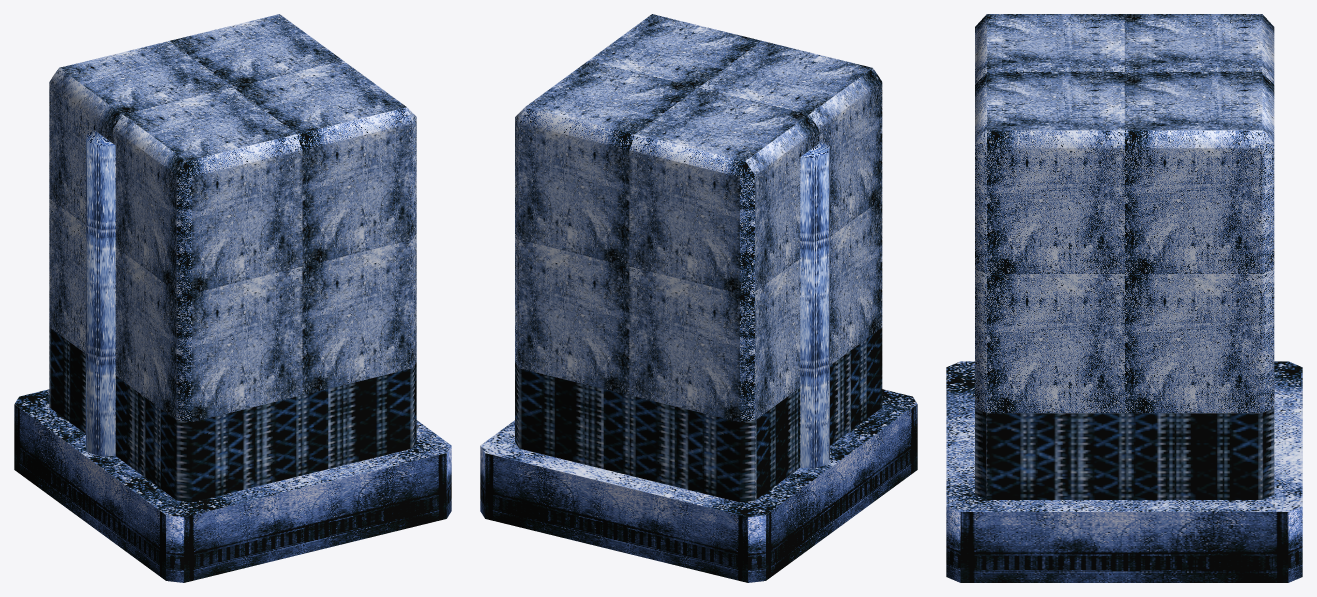
The model's file is Generator.fbx.
The picture shows the model from 3 angles, left to right: view 1: azimuth 30°, elevation 25°; view 2: azimuth 150°, elevation 25°; view 3: azimuth 270°, elevation 25°; orthographic projection. The views are drawn at different scales.
Parts seen in each view (by area): view 1: object_0, object_7, object_8; view 2: object_0, object_7, object_8; view 3: object_0, object_7.
Part boxes in pixels (left/top/right/bottom): object_0: left=49, top=14, right=416, bottom=502; object_7: left=14, top=389, right=451, bottom=582; object_8: left=86, top=130, right=115, bottom=456; object_0: left=515, top=14, right=882, bottom=502; object_7: left=480, top=389, right=917, bottom=582; object_8: left=800, top=142, right=829, bottom=468; object_0: left=975, top=14, right=1274, bottom=499; object_7: left=946, top=361, right=1302, bottom=582.
Size of the model in its own units: 250 by 337 by 250.
